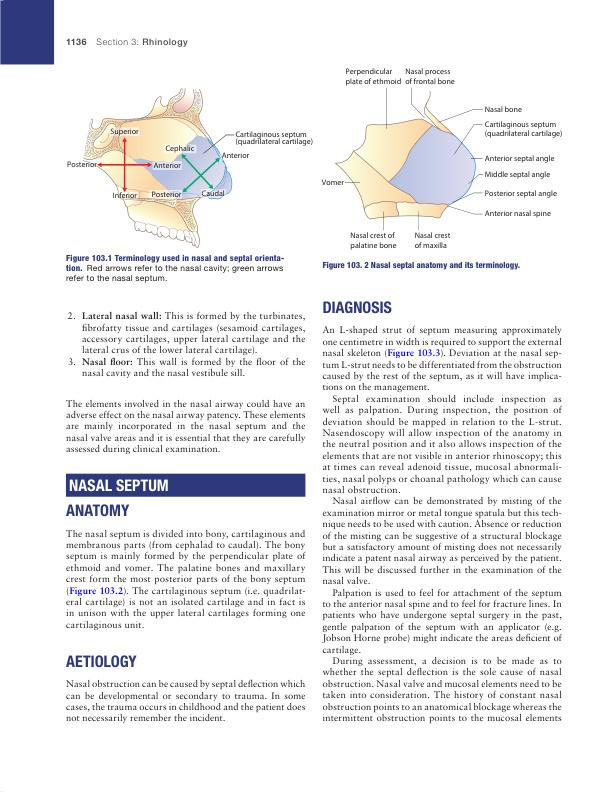caption: (64, 253, 285, 285), (322, 260, 521, 272)
header: (95, 36, 189, 48)
image: (318, 61, 567, 254), (61, 81, 316, 251)
list: (65, 309, 307, 380)
section-heading: (69, 478, 170, 492)
sub-section-heading: (64, 653, 138, 669), (321, 299, 393, 315), (65, 502, 131, 518)
text: (321, 325, 563, 725), (64, 528, 307, 632), (64, 398, 307, 457), (64, 678, 306, 725)
